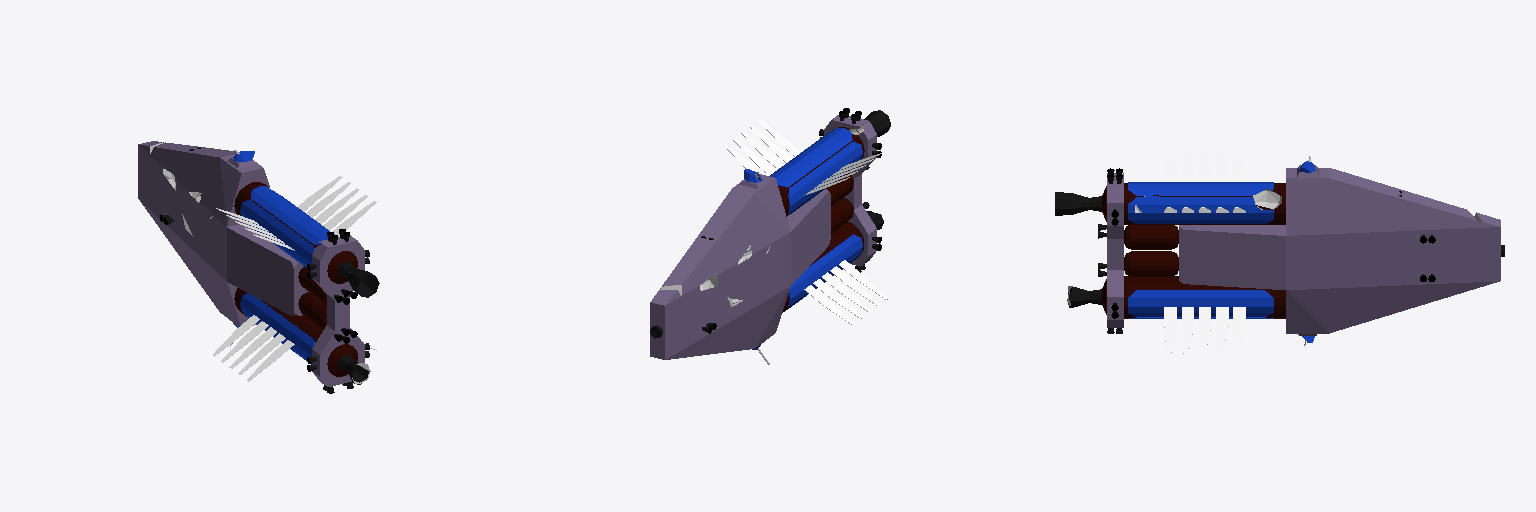
The model's file is ShipBroken.obj.
3 views of the same model, side by side, from view 1: azimuth 30°, elevation 25°; view 2: azimuth 150°, elevation 25°; view 3: azimuth 270°, elevation 25° (orthographic).
Parts seen in each view (by area): view 1: Main_Hull; view 2: Main_Hull; view 3: Main_Hull.
Part boxes in pixels (x1,y1,x2,y2): Main_Hull: (138,141,379,393); Main_Hull: (650,108,890,364); Main_Hull: (1055,151,1504,355).
Size of the model in its own units: 34.54 by 49.94 by 105.